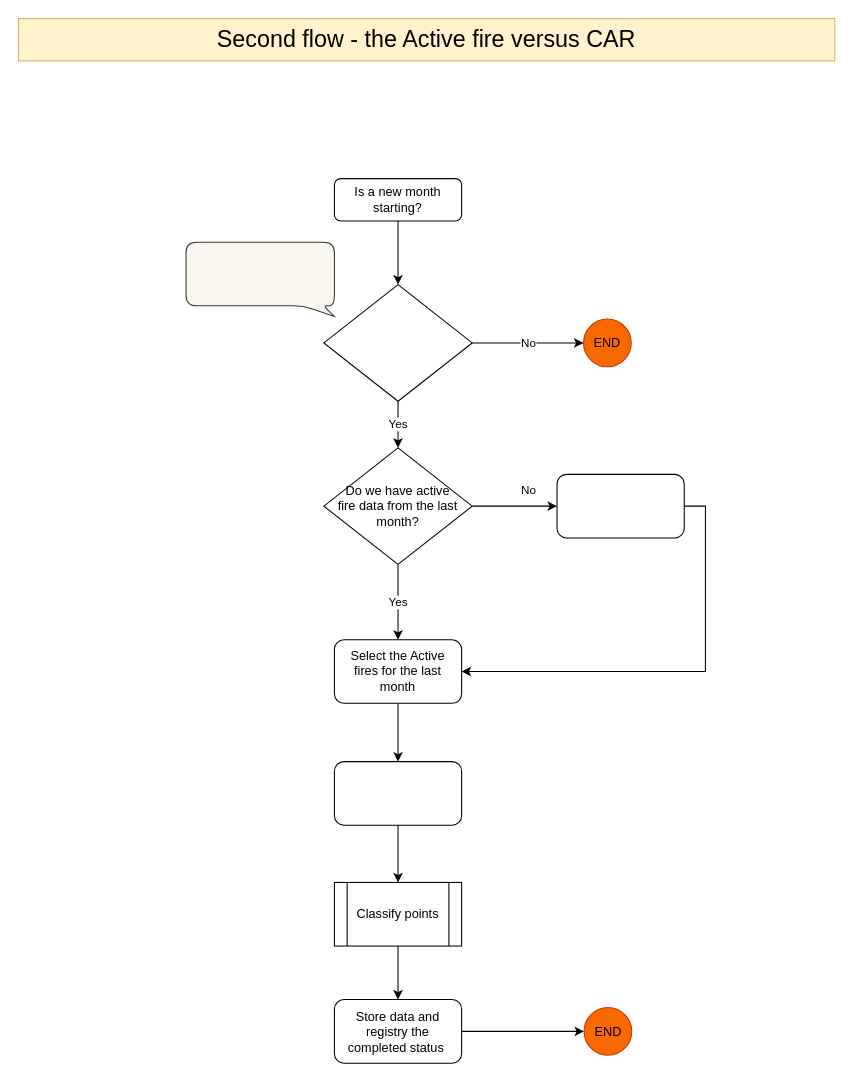
The diagram is 853 pixels wide and 1082 high, and some of its shapes have lost their labels. Here are the shapes that lost their labels. From the top down, the centre of each, then its label:
At [259,278]: "Get a biome from the list whose data has not been processed for the last month.".
At [397,342]: "Do you have an unprocessed biome?".
At [620,505]: "Download, store and registry".
At [397,793]: "Select the CAR raster file".
